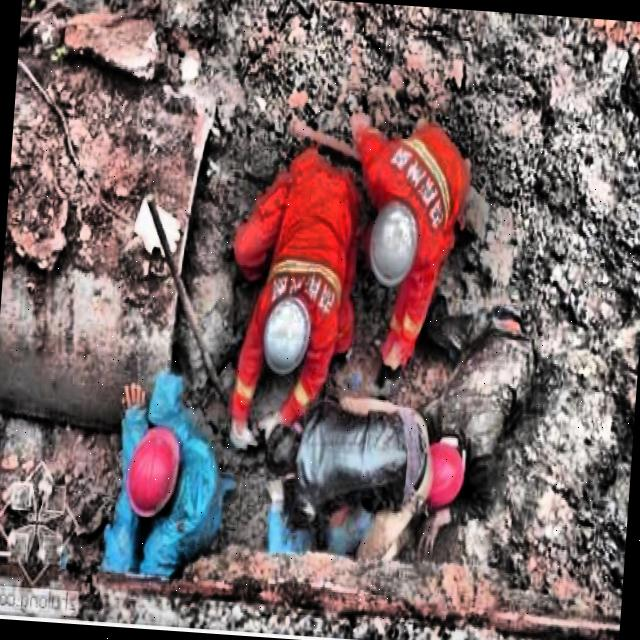helmet: (124, 423, 188, 517), (253, 294, 316, 384), (363, 208, 421, 292), (416, 439, 466, 514)
